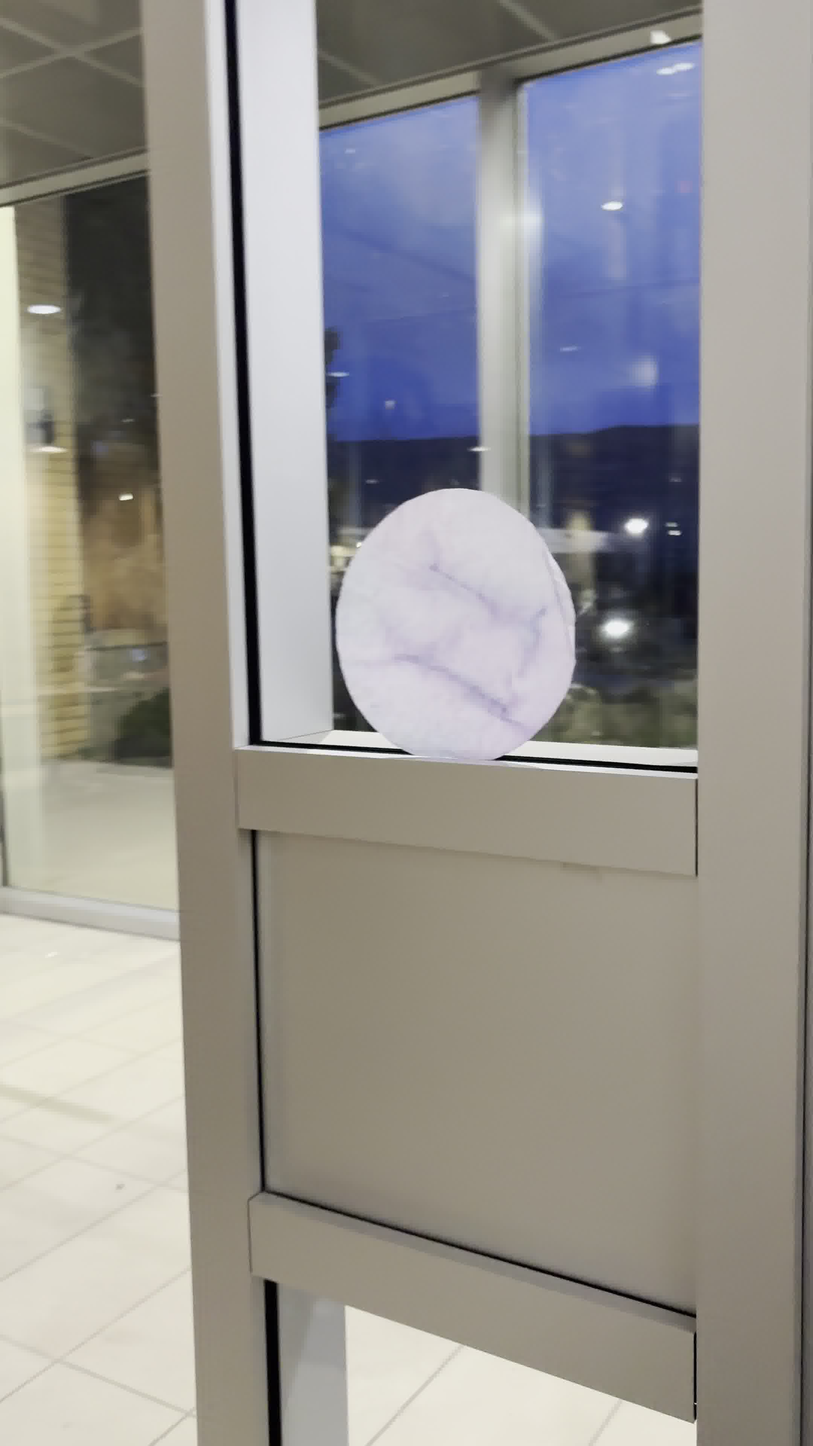Target: (332, 480, 577, 767)
